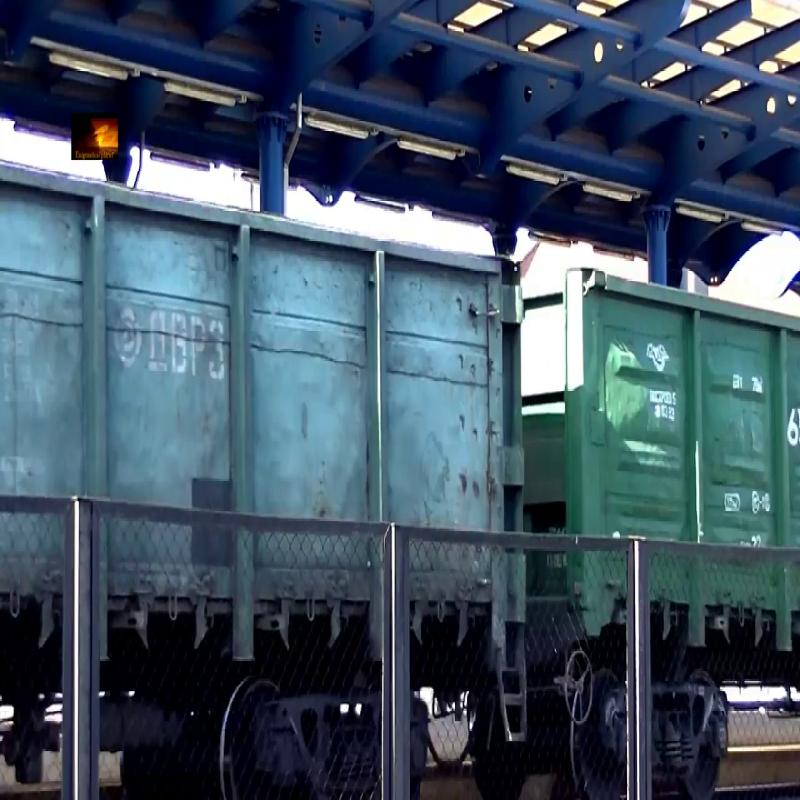train: (2, 49, 546, 773), (566, 47, 800, 771)
